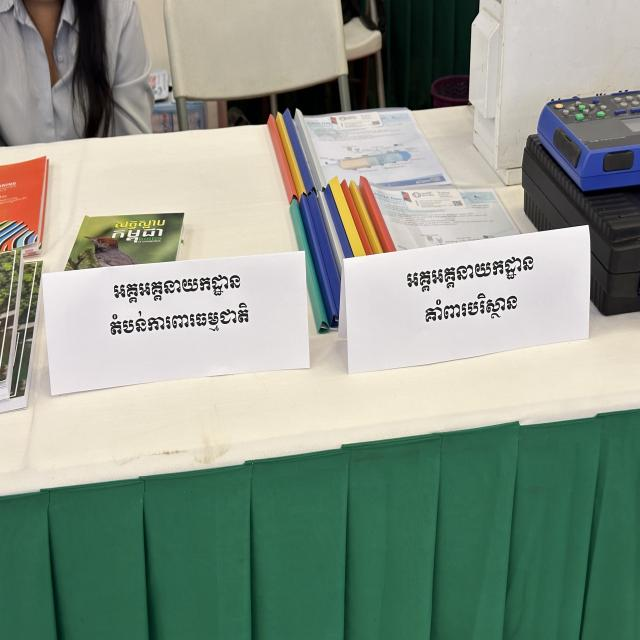Yolov11_80vkh: (399, 244, 537, 303), (100, 298, 250, 343), (108, 264, 245, 311), (416, 290, 524, 334)
